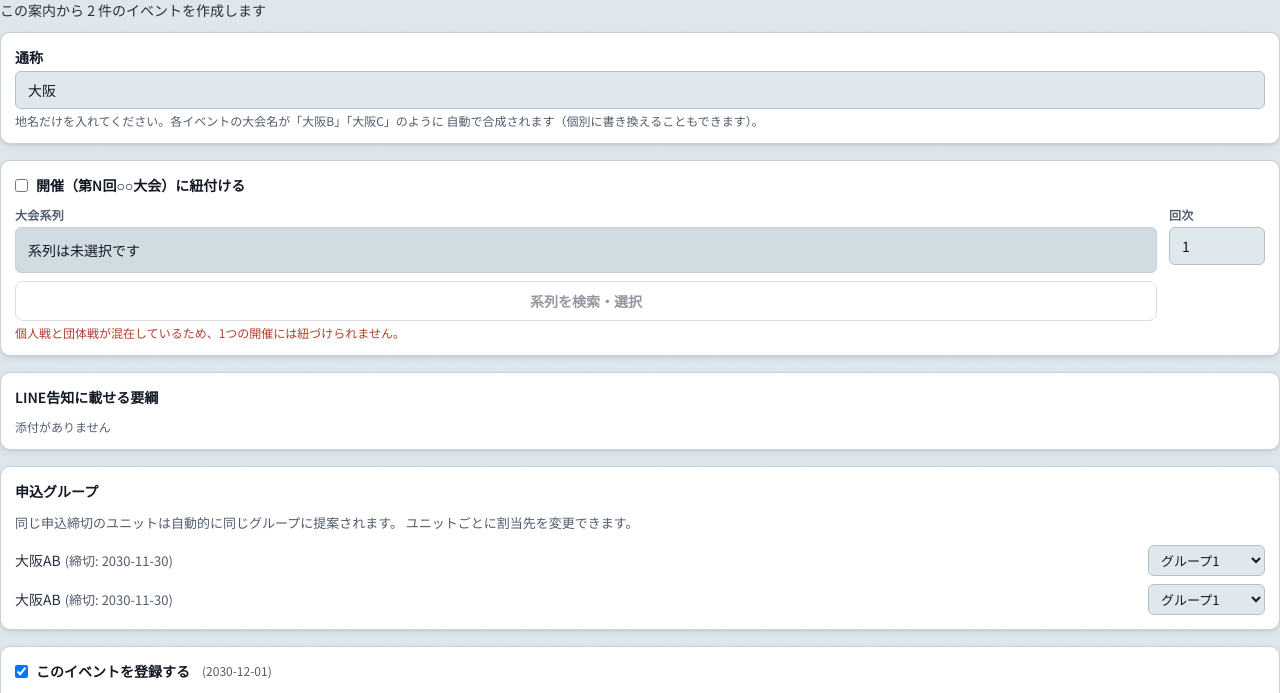
Test: ApprovalForm — 複数単位フォーム › 登録対象の個人戦・団体戦が混在中は系列選択を無効にする
Check: the button "系列を検索・選択" is disabled, box [15, 281, 1157, 321]
Check: the text "個人戦と団体戦が混在しているため、1つの開催には紐づけられません。" is shown, box [15, 324, 405, 341]
Click the checkbox labelled "このイベントを登録する (2030-12-01)": click(22, 671) [15, 665, 28, 678]
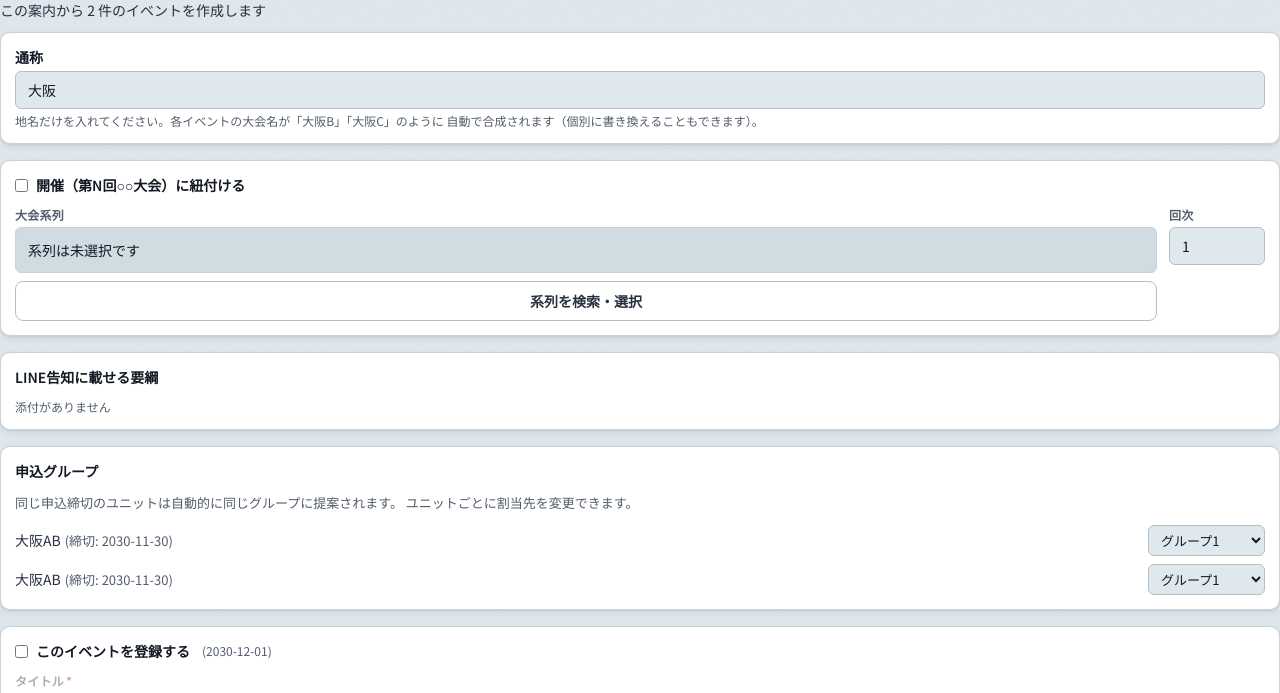
Check: the button "系列を検索・選択" is enabled, box [15, 281, 1157, 321]
